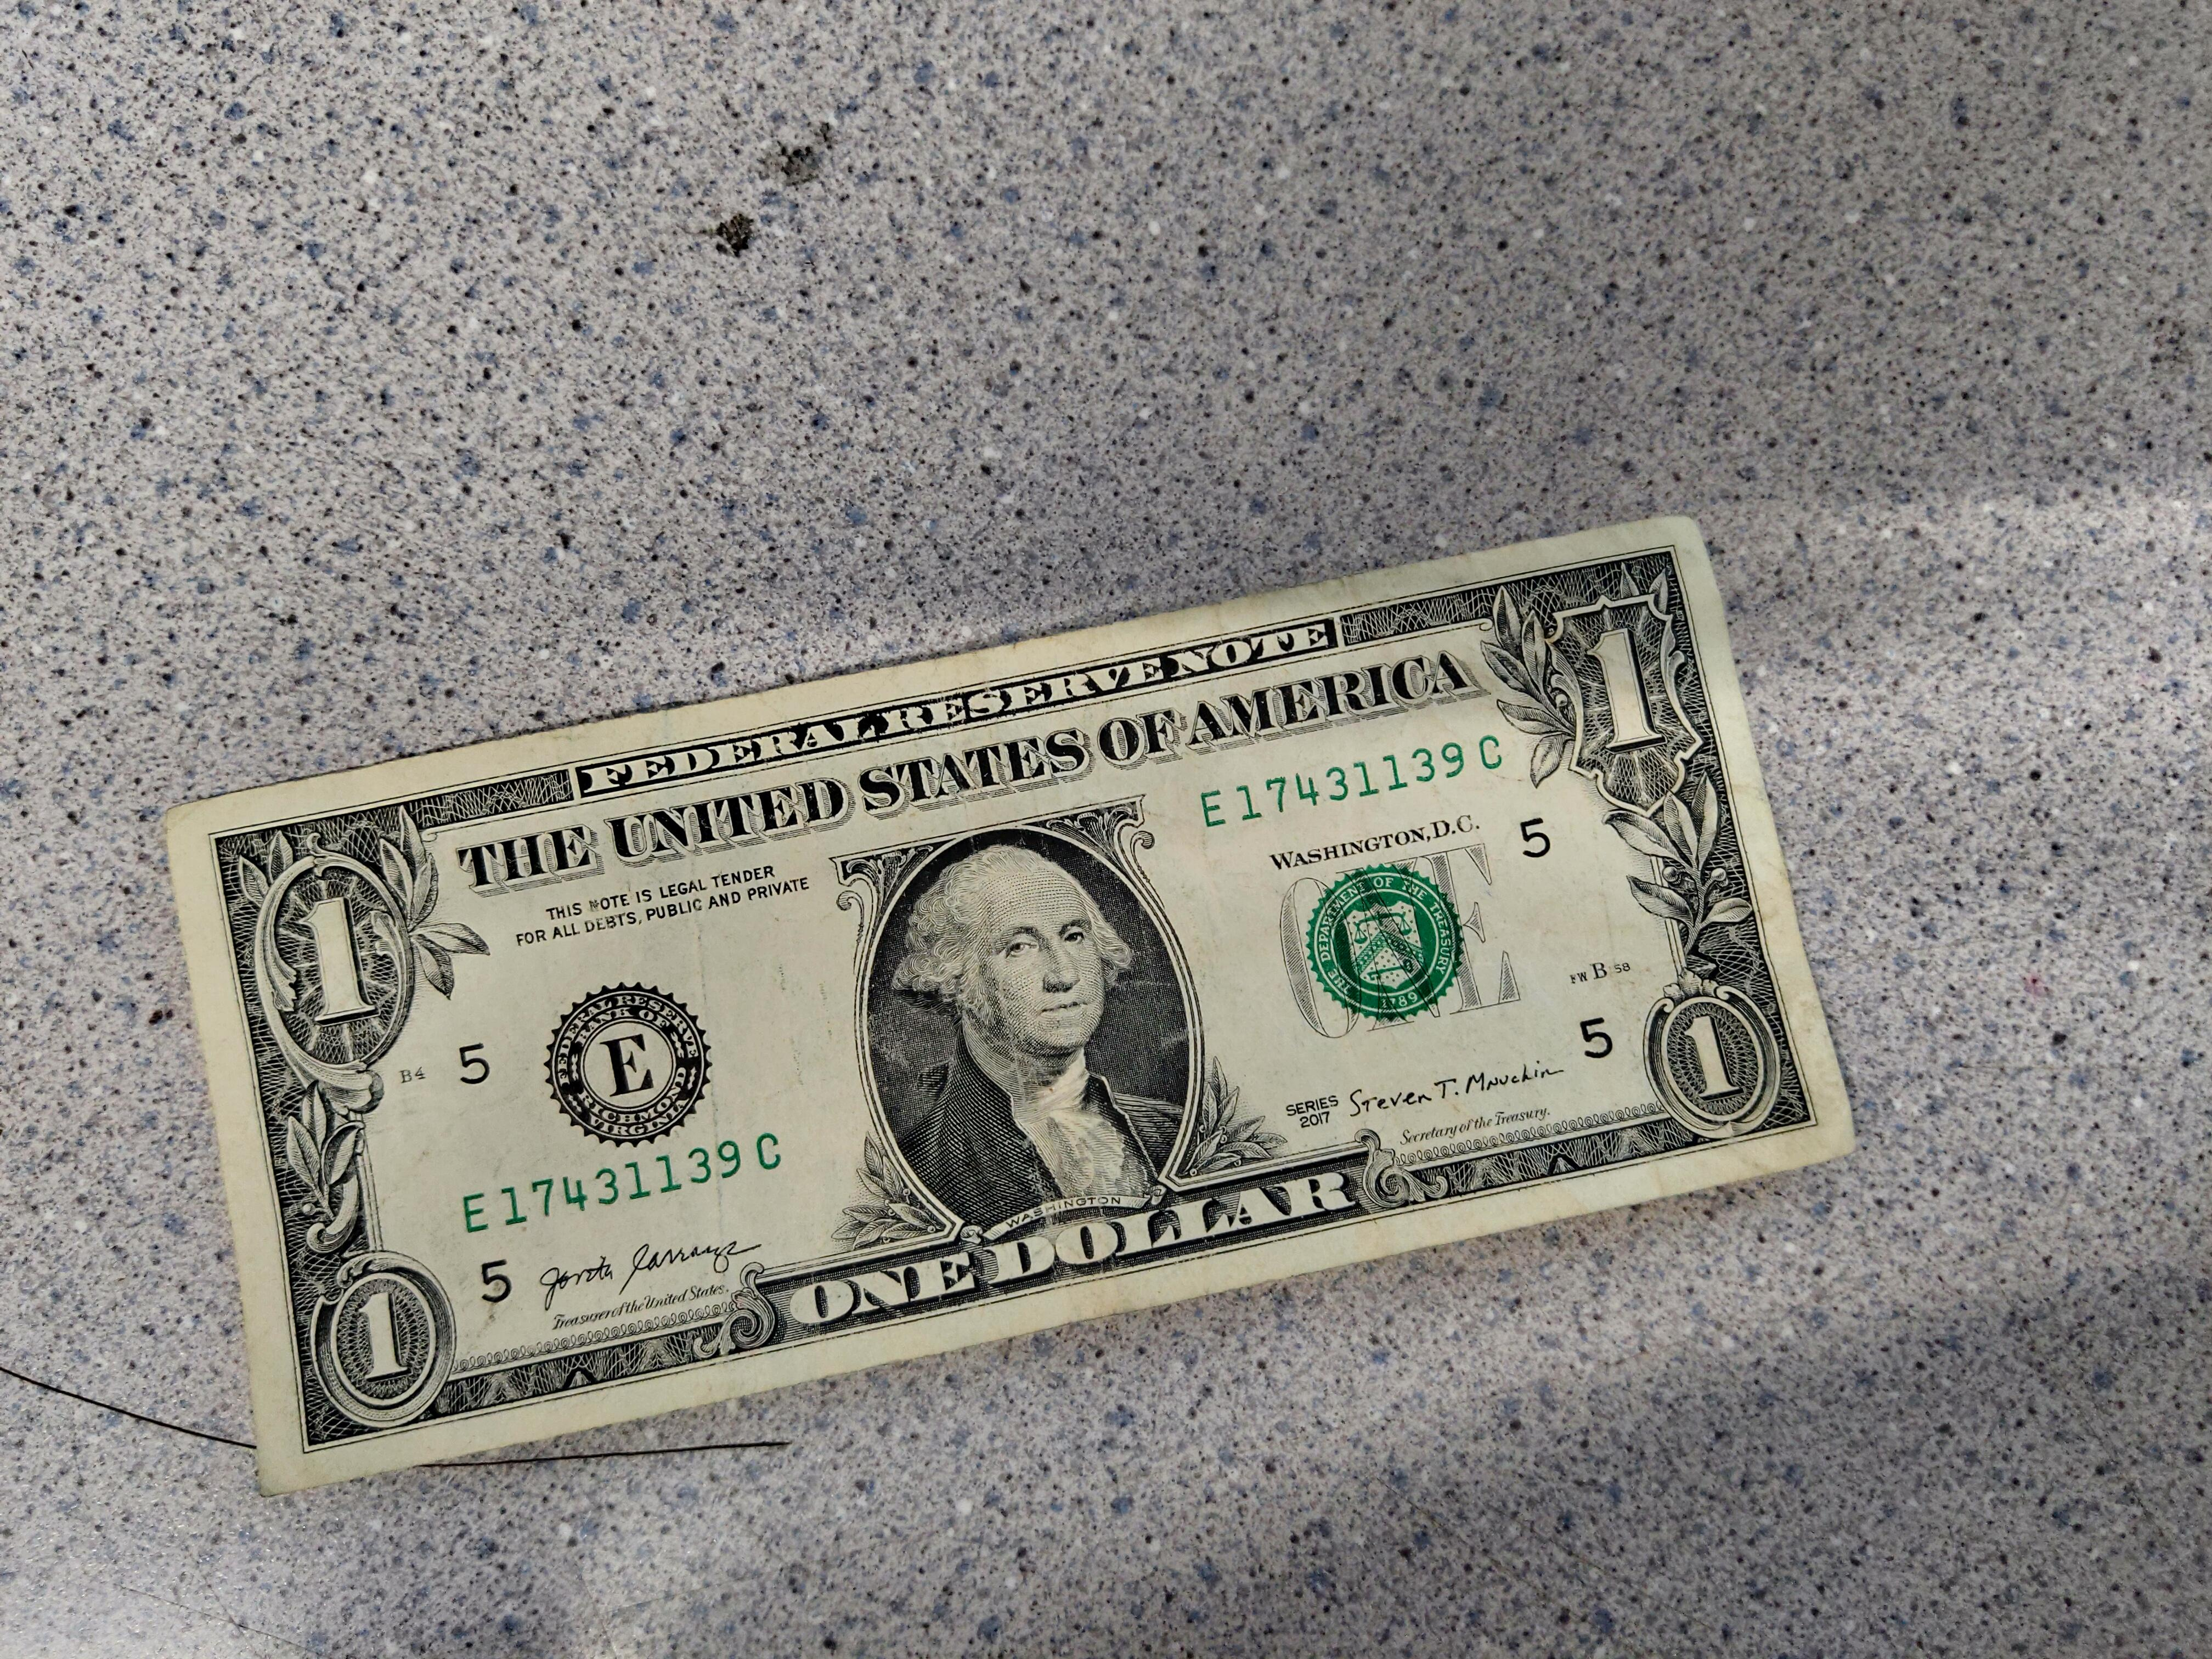OneBill: (164, 511, 1858, 1500)
